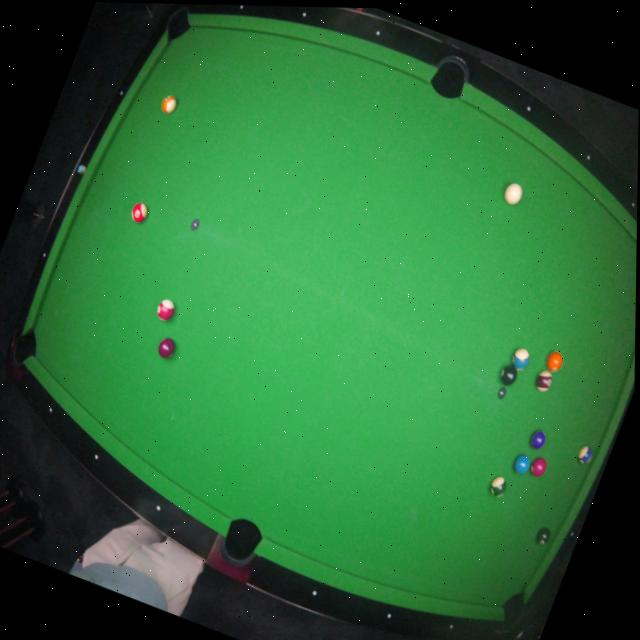cue ball: (499, 177, 529, 214)
other: (151, 295, 180, 328), (127, 198, 154, 229), (507, 344, 534, 374), (157, 91, 183, 120), (155, 335, 181, 364), (487, 473, 511, 503), (510, 449, 534, 478), (531, 368, 555, 396), (543, 349, 567, 375), (498, 362, 521, 389), (526, 454, 549, 480), (574, 444, 595, 468), (528, 428, 548, 453), (534, 525, 554, 550)
